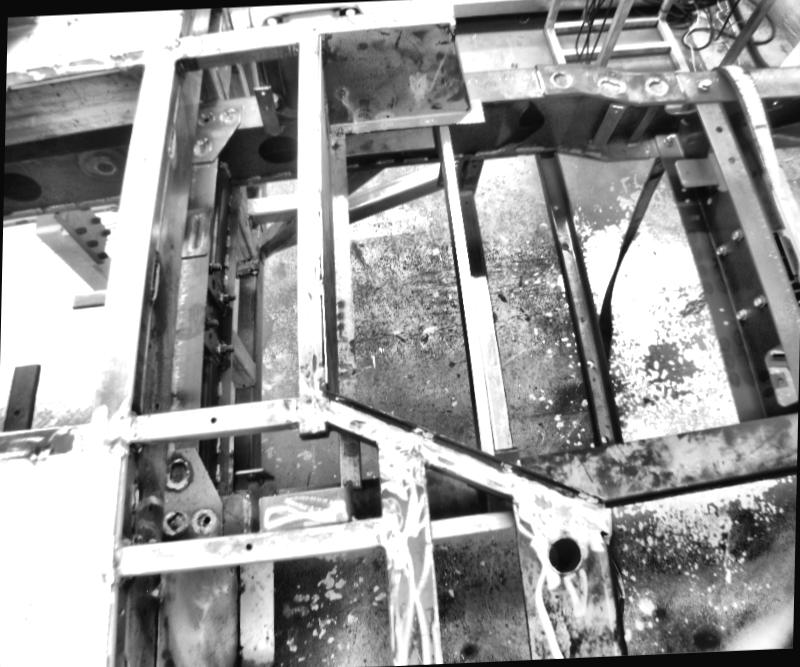bolt: (208, 258, 224, 274), (218, 291, 236, 305), (696, 78, 710, 96), (215, 342, 235, 354), (662, 132, 678, 146), (748, 294, 762, 310), (712, 246, 726, 260), (732, 310, 744, 322), (730, 232, 740, 244)
bracket: (1, 359, 42, 431), (667, 150, 717, 205), (756, 343, 796, 410), (250, 84, 288, 140), (68, 286, 110, 312)
hole: (545, 534, 583, 574), (4, 170, 42, 206), (94, 158, 118, 176), (14, 408, 26, 419), (240, 542, 252, 552), (587, 358, 595, 370), (601, 434, 609, 444), (209, 416, 217, 424), (140, 156, 148, 164), (202, 516, 210, 524), (561, 243, 569, 251), (720, 321, 728, 329), (715, 126, 723, 132), (553, 204, 561, 210), (715, 308, 721, 314), (260, 93, 266, 97), (464, 202, 466, 206)
